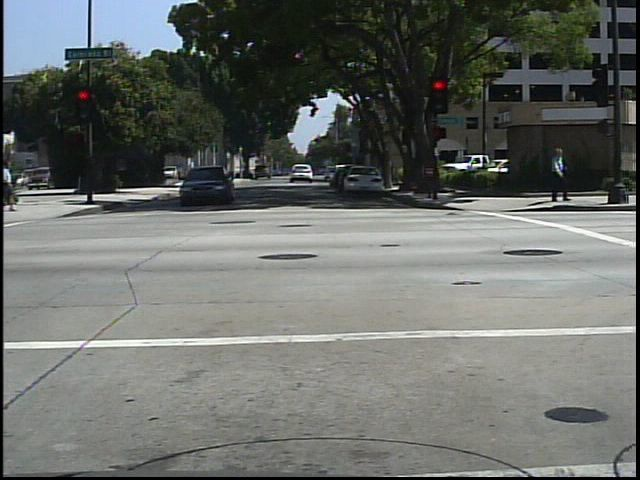person: (543, 143, 575, 207), (4, 156, 23, 220)
